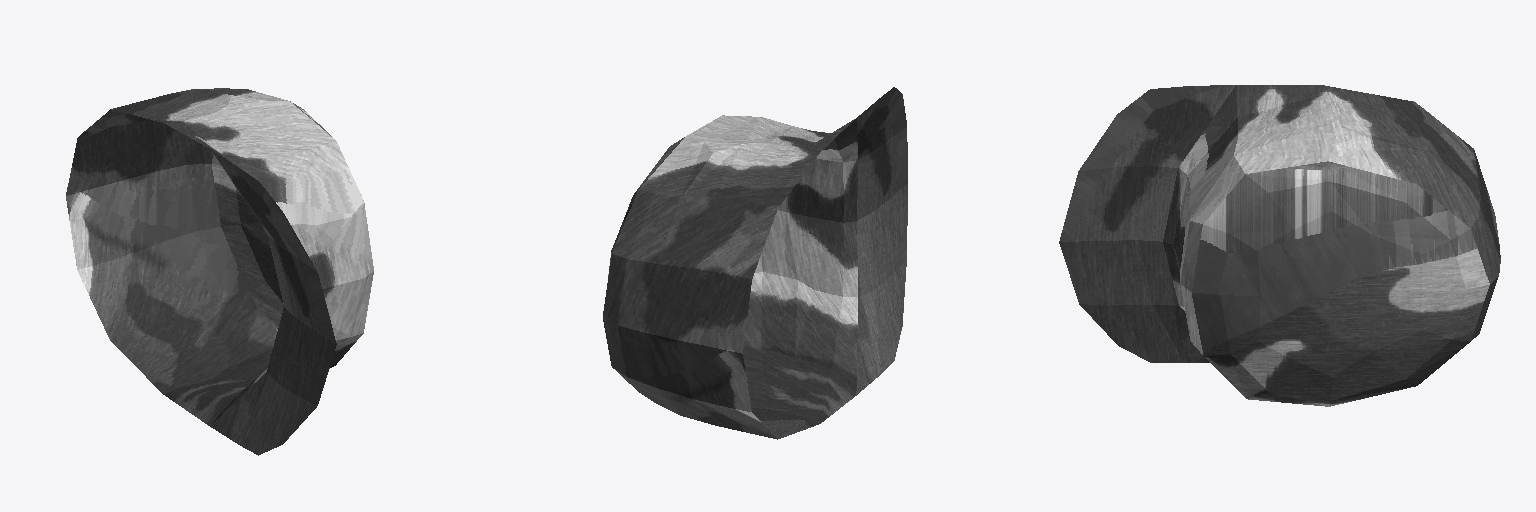
3 renders of one model, left to right at view 1: azimuth 30°, elevation 25°; view 2: azimuth 150°, elevation 25°; view 3: azimuth 270°, elevation 25°, orthographic.
Parts seen in each view (by area): view 1: Circle.001; view 2: Circle.001; view 3: Circle.001.
Part boxes in pixels (x1,y1,x2,y2): Circle.001: (66,88,373,455); Circle.001: (603,87,907,439); Circle.001: (1059,85,1500,406).
Bounding box in the file's own units: 0.0009 × 0.0015 × 0.0021.
1 materials, 1 textured.